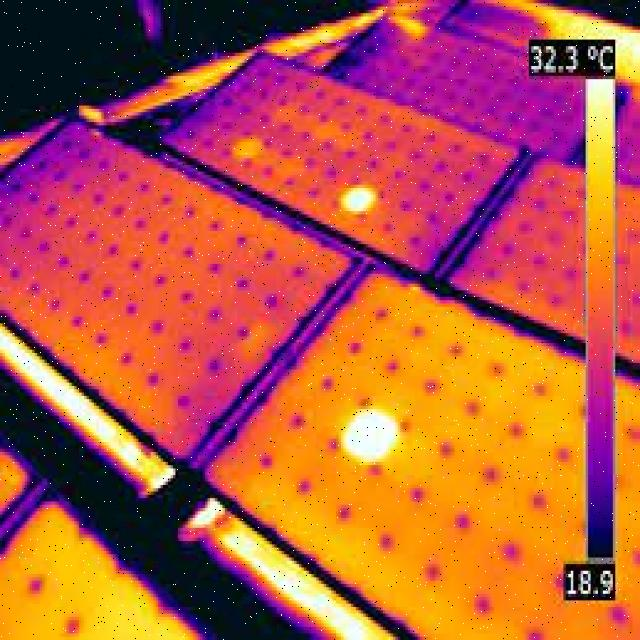Hotspot: (333, 398, 413, 474), (334, 177, 382, 220), (230, 128, 266, 164)
